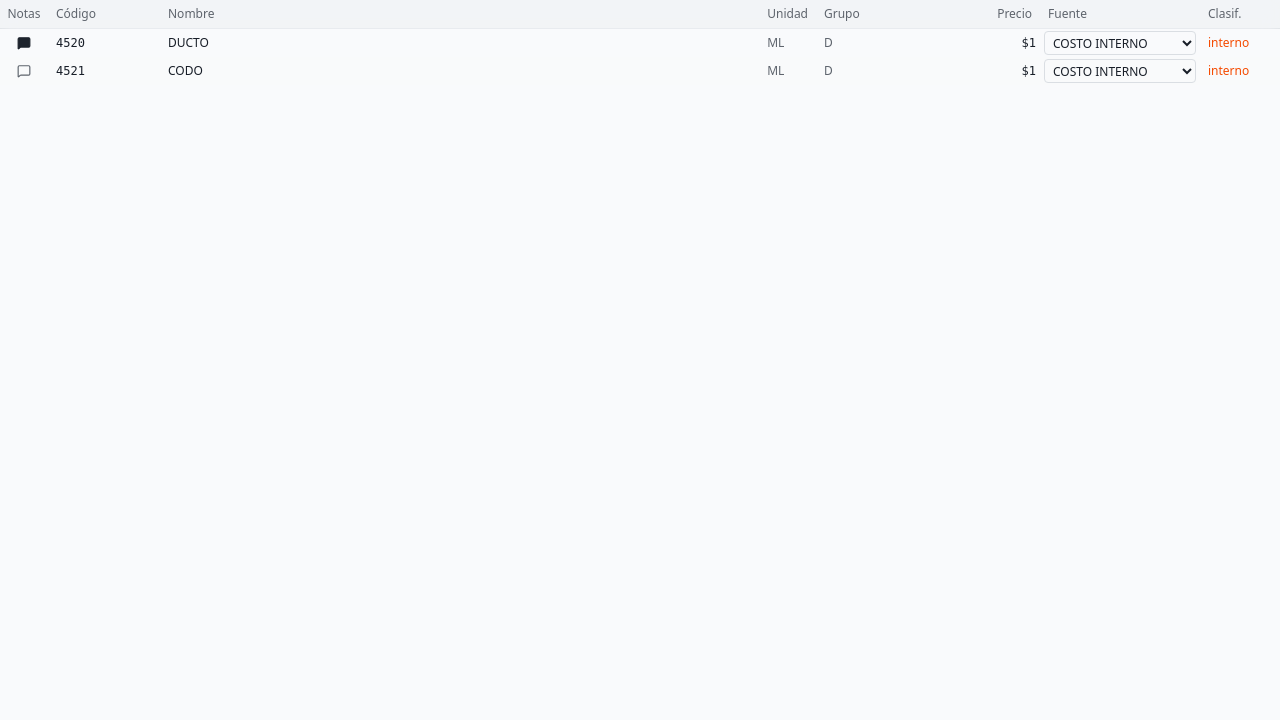
Test: TablaInsumos: columna de notas › pinta el ícono de la fila con notas y abre su panel
This screenshot has width=1280, height=720.
Click the button named "Notas" next to "4520".
click(24, 42)  # box left=14, top=32, right=34, bottom=52
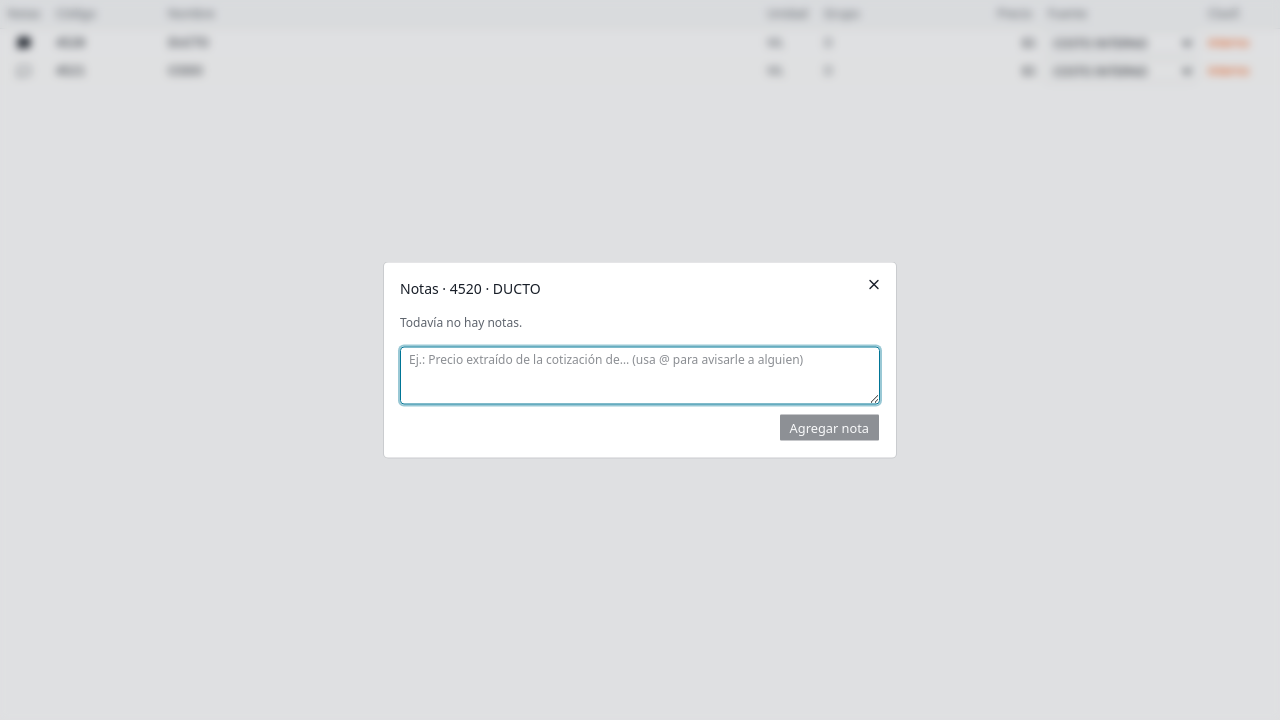
Check: the heading "Notas · 4520 · DUCTO" is shown, box left=400, top=278, right=541, bottom=298
